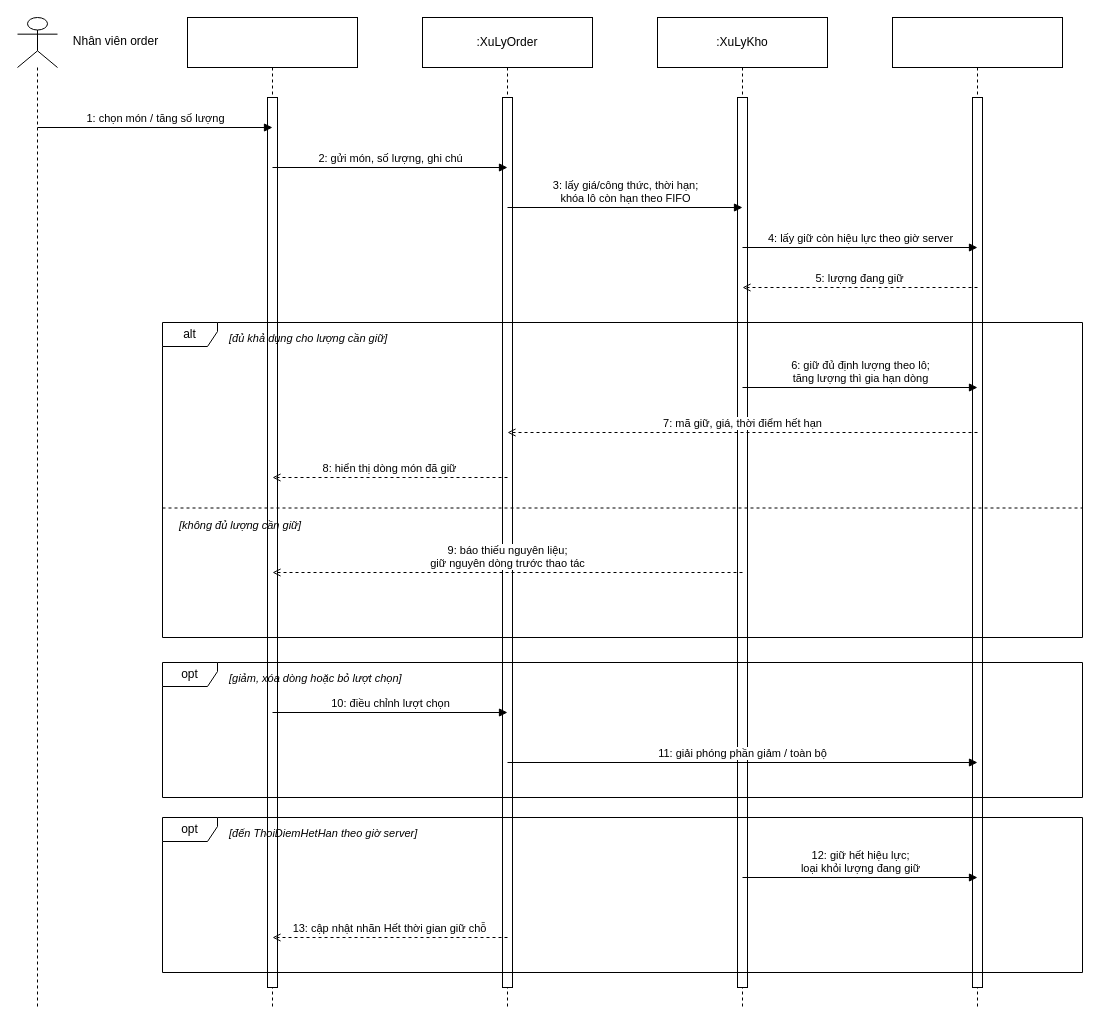
Some shapes in this 1100 by 1025 pixel diagram are drawn without their labels. Here are the shapes that lost their labels. From the top down, the box of each, then its label:
(186, 16, 358, 1008): :Màn hình order
(892, 16, 1062, 1008): :GIU_CHO_MON / CHI_TIET_GIU_CHO
